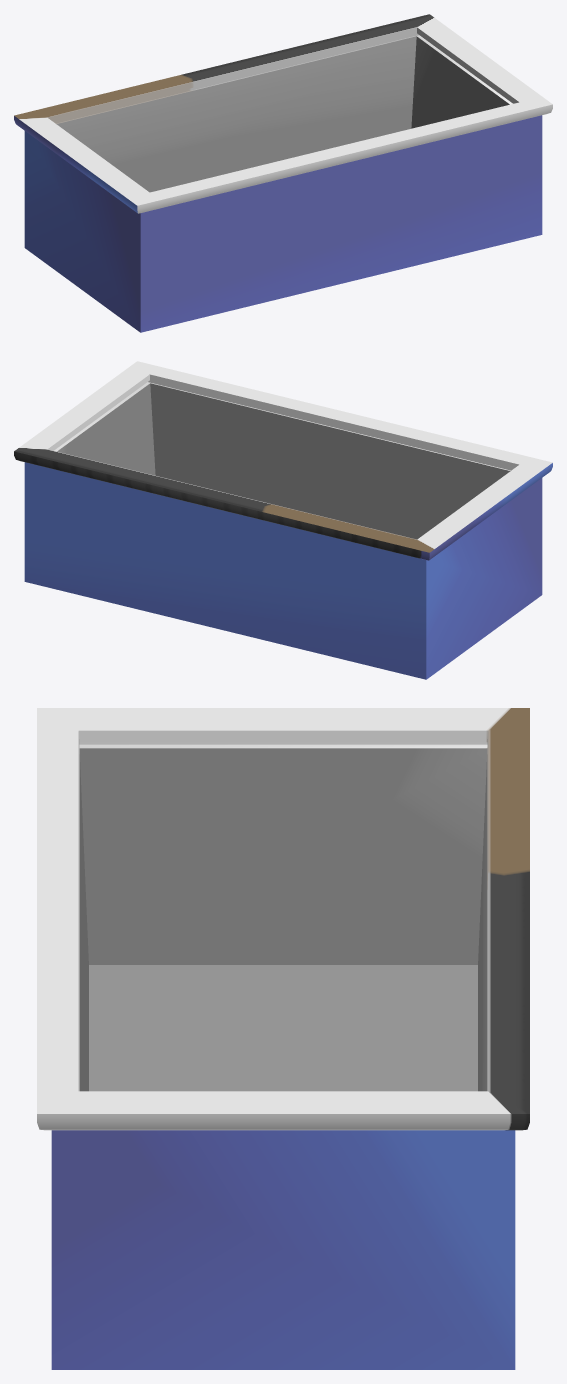
Rendered from frigo da terra.fbx.
The picture shows the model from 3 angles, top to bottom: view 1: azimuth 30°, elevation 25°; view 2: azimuth 150°, elevation 25°; view 3: azimuth 270°, elevation 25°; orthographic projection. The views are drawn at different scales.
Visible parts, largest first — view 1: Frigo da terra; view 2: Frigo da terra; view 3: Frigo da terra.
Boxes of the visible parts, x1,y1,x2,y2 form: Frigo da terra: (14, 14, 552, 332); Frigo da terra: (14, 361, 552, 679); Frigo da terra: (37, 708, 529, 1369).
Size of the model in its own units: 207 by 62.49 by 106.
